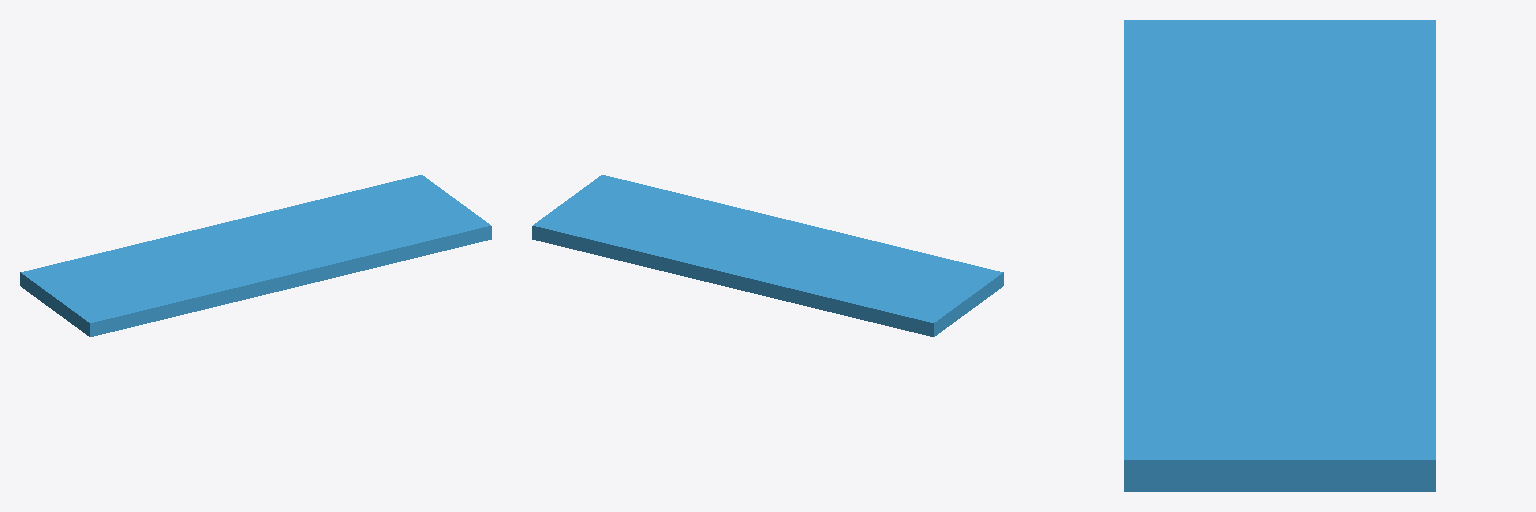
robot.urdf — cylinder_91:
    
    <robot name="cylinder_91">
        <link name="cylinder_91">    
            <fem>
                <origin rpy="0.0 0.0 0.0" xyz="0 0 0" />
                <density value="100" />
                <youngs value="10707"/>
                <poissons value="0.3" />
                <damping value="0.0" />
                <attachDistance value="0.01" />
                <tetmesh filename="[local-path]/sim_data/Custom/Custom_mesh/multi_cylinders_10kPa/cylinder_91.tet" />
                <scale value="0.5"/>
            </fem>
        </link>

        <link name="fix_frame">
            <visual>
                <origin xyz="0.0 0.0 10.058776178260022"/>
                <geometry>
                    <box size="0.15 0.045091543487842306 0.005"/>
                </geometry>
            </visual>
            <collision>
                <origin xyz="0.0 0.0 0.05877617826002098"/>
                <geometry>
                    <box size="0.15 0.045091543487842306 0.005"/>
                </geometry>
            </collision>
            <inertial>
                <mass value="500000"/>
                <inertia ixx="0.05" ixy="0.0" ixz="0.0" iyy="0.05" iyz="0.0" izz="0.05"/>
            </inertial>
        </link>
        
        <joint name = "attach" type = "fixed">
            <origin xyz = "0.0 0.0 0.0" rpy = "0 0 0"/>
            <parent link ="cylinder_91"/>
            <child link = "fix_frame"/>
        </joint>  




    </robot>
    

--- Render facts (derived) ---
Views: 3 orthographic renders of the robot side by side, from view 1: azimuth 30°, elevation 25°; view 2: azimuth 150°, elevation 25°; view 3: azimuth 270°, elevation 25°.
Robot: cylinder_91 — 2 links, 1 joints (1 fixed); root link cylinder_91; default pose: every joint at zero.
Links seen in each view (by area): view 1: fix_frame; view 2: fix_frame; view 3: fix_frame.
Link boxes in pixels (<box>): fix_frame: <box>20,175,491,336</box>; fix_frame: <box>532,175,1003,336</box>; fix_frame: <box>1124,20,1435,491</box>.
Size in the robot's own frame: 0.15 by 0.0451 by 0.005 metres.
Geometry: primitives only (box / cylinder / sphere), no mesh files.